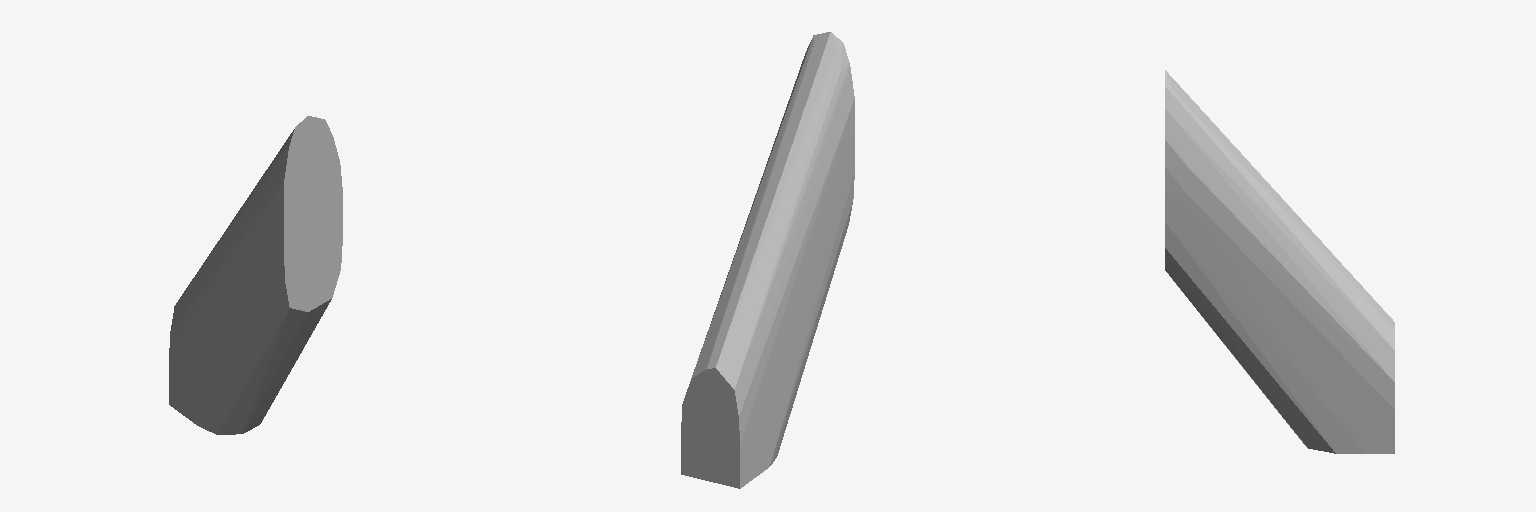
The model's file is Cart_outer_skeleton_collision_12.obj.
The picture shows the model from 3 angles: view 1: azimuth 30°, elevation 25°; view 2: azimuth 150°, elevation 25°; view 3: azimuth 270°, elevation 25°; orthographic projection.
Size of the model in its own units: 0.0192 by 0.114 by 0.0646.